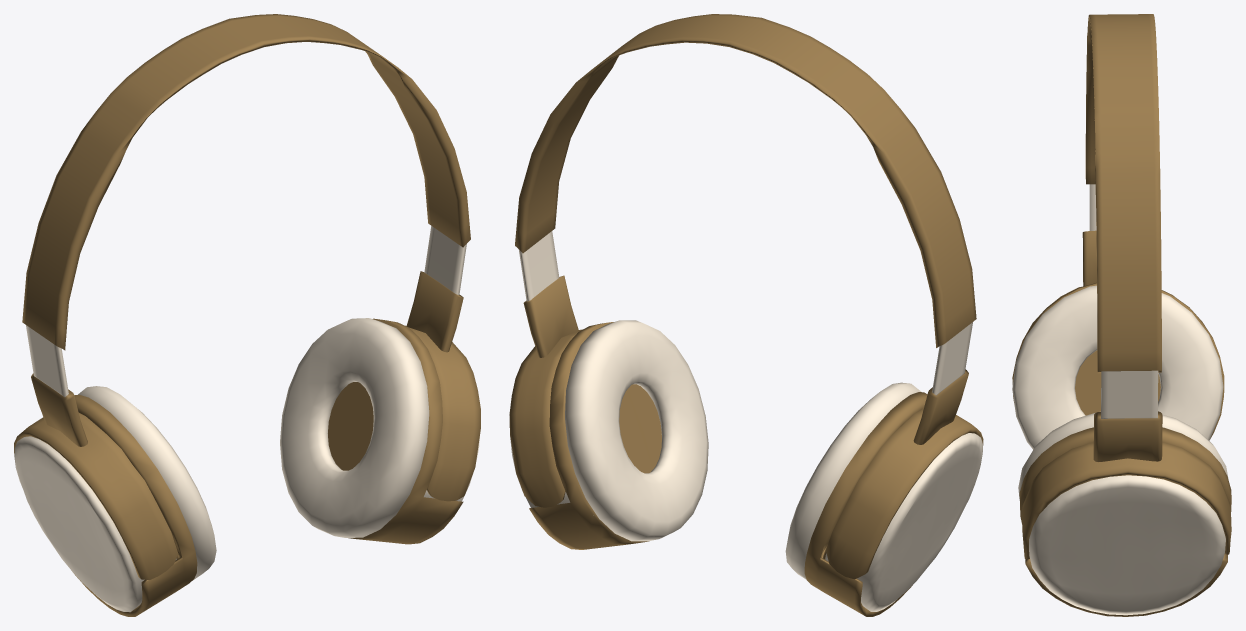
Rendered from headphone.glb.
3 renders of one model, left to right at view 1: azimuth 30°, elevation 25°; view 2: azimuth 150°, elevation 25°; view 3: azimuth 270°, elevation 25°, orthographic. The views are drawn at different scales.
Parts seen in each view (by area): view 1: Headband.001, Cushions.001, Headpad.001, Speaker_cups, Inner_Cushions, Slider; view 2: Headband.001, Cushions.001, Headpad.001, Speaker_cups, Inner_Cushions, Slider; view 3: Headband.001, Speaker_cups, Cushions.001, Headpad.001, Slider, Inner_Cushions.
Boxes of the visible parts, x1,y1,x2,y2 form: Headband.001: (22, 14, 470, 616); Cushions.001: (78, 318, 429, 581); Headpad.001: (14, 271, 480, 579); Speaker_cups: (14, 436, 479, 612); Inner_Cushions: (328, 318, 430, 538); Slider: (26, 226, 466, 397); Headband.001: (515, 14, 976, 616); Cushions.001: (565, 320, 921, 579); Headpad.001: (509, 275, 983, 579); Speaker_cups: (510, 433, 982, 611); Inner_Cushions: (562, 322, 661, 542); Slider: (518, 231, 972, 395); Headband.001: (1012, 14, 1231, 616); Speaker_cups: (1029, 475, 1225, 615); Cushions.001: (1012, 285, 1228, 500); Headpad.001: (1021, 230, 1231, 558); Slider: (1089, 184, 1158, 418); Inner_Cushions: (1012, 284, 1224, 438).
Size of the model in its own units: 51.93 by 63.73 by 24.44.
